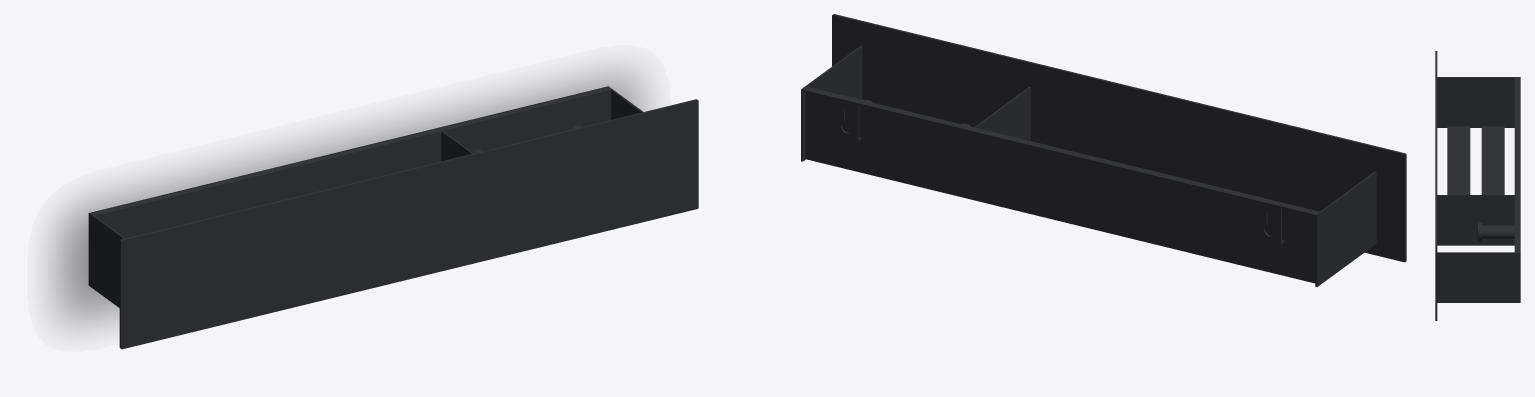
Rendered from skyline-patron.a8e71ac4c8.ar.glb.
3 views of the same model, side by side, from view 1: azimuth 30°, elevation 25°; view 2: azimuth 150°, elevation 25°; view 3: azimuth 270°, elevation 25° (orthographic). The views are drawn at different scales.
Parts seen in each view (by area): view 1: NAUO1, object 2; view 2: NAUO1; view 3: NAUO1.
Part boxes in pixels (box(x1,y1,x2,y2)): NAUO1: box(88, 86, 698, 349); object 2: box(49, 70, 648, 326); NAUO1: box(801, 14, 1406, 286); NAUO1: box(1435, 51, 1520, 320).
Size of the model in its own units: 0.58 by 0.17 by 0.092.
Materials: 2 (1 with a texture image).
